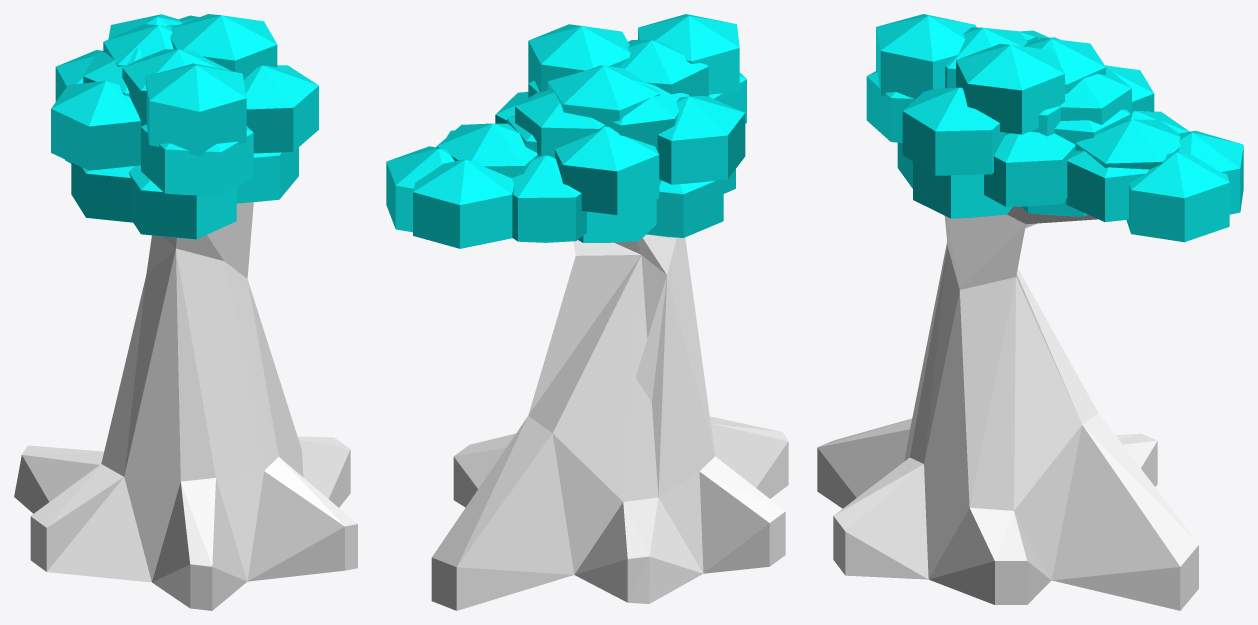
The model's file is tree_white.glb.
The picture shows the model from 3 angles, left to right: view 1: azimuth 30°, elevation 25°; view 2: azimuth 150°, elevation 25°; view 3: azimuth 270°, elevation 25°; orthographic projection.
Parts seen in each view (by area): view 1: Trunk, LeafGrist.021, LeafGrist.013, LeafGrist.019, LeafGrist.012, LeafGrist.005, LeafGrist.020, LeafGrist.006, LeafGrist.004, LeafGrist.023, LeafGrist.022, LeafGrist.015 (+2 smaller); view 2: Trunk, LeafGrist.001, LeafGrist.017, LeafGrist.013, LeafGrist.008, LeafGrist.021, LeafGrist.020, LeafGrist.022, LeafGrist.006, LeafGrist.011, LeafGrist.023, LeafGrist.014 (+4 smaller); view 3: Trunk, LeafGrist.020, LeafGrist.003, LeafGrist.019, LeafGrist.021, LeafGrist.018, LeafGrist.011, LeafGrist.002, LeafGrist.004, LeafGrist.014, LeafGrist.001, LeafGrist.022 (+6 smaller).
Part boxes in pixels (<box>): Trunk: <box>14,202,357,610</box>; LeafGrist.021: <box>145,63,246,155</box>; LeafGrist.013: <box>51,80,141,170</box>; LeafGrist.019: <box>243,65,318,153</box>; LeafGrist.012: <box>141,124,253,196</box>; LeafGrist.005: <box>129,165,236,239</box>; LeafGrist.020: <box>170,14,277,79</box>; LeafGrist.006: <box>71,162,134,222</box>; LeafGrist.004: <box>236,147,298,203</box>; LeafGrist.023: <box>122,49,230,126</box>; LeafGrist.022: <box>103,24,173,66</box>; LeafGrist.015: <box>83,48,141,96</box>; Trunk: <box>431,234,788,610</box>; LeafGrist.001: <box>413,159,514,248</box>; LeafGrist.017: <box>555,126,659,214</box>; LeafGrist.013: <box>657,96,745,184</box>; LeafGrist.008: <box>512,155,586,242</box>; LeafGrist.021: <box>638,14,739,96</box>; LeafGrist.020: <box>528,24,630,92</box>; LeafGrist.022: <box>547,65,659,127</box>; LeafGrist.006: <box>646,179,723,237</box>; LeafGrist.011: <box>436,123,537,178</box>; LeafGrist.023: <box>619,40,708,96</box>; LeafGrist.014: <box>515,90,605,157</box>; Trunk: <box>817,206,1198,610</box>; LeafGrist.020: <box>956,43,1064,134</box>; LeafGrist.003: <box>1126,152,1229,242</box>; LeafGrist.019: <box>902,87,1004,175</box>; LeafGrist.021: <box>876,14,976,99</box>; LeafGrist.018: <box>984,131,1075,206</box>; LeafGrist.011: <box>1075,119,1180,169</box>; LeafGrist.002: <box>1066,150,1149,221</box>; LeafGrist.004: <box>913,161,1012,218</box>; LeafGrist.014: <box>1060,66,1131,124</box>; LeafGrist.001: <box>1178,130,1243,214</box>; LeafGrist.022: <box>1023,37,1105,93</box>.
Bounding box in the file's own units: 2.21 × 3.63 × 2.63.
